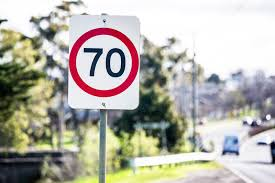sp70: (70, 30, 141, 95)
